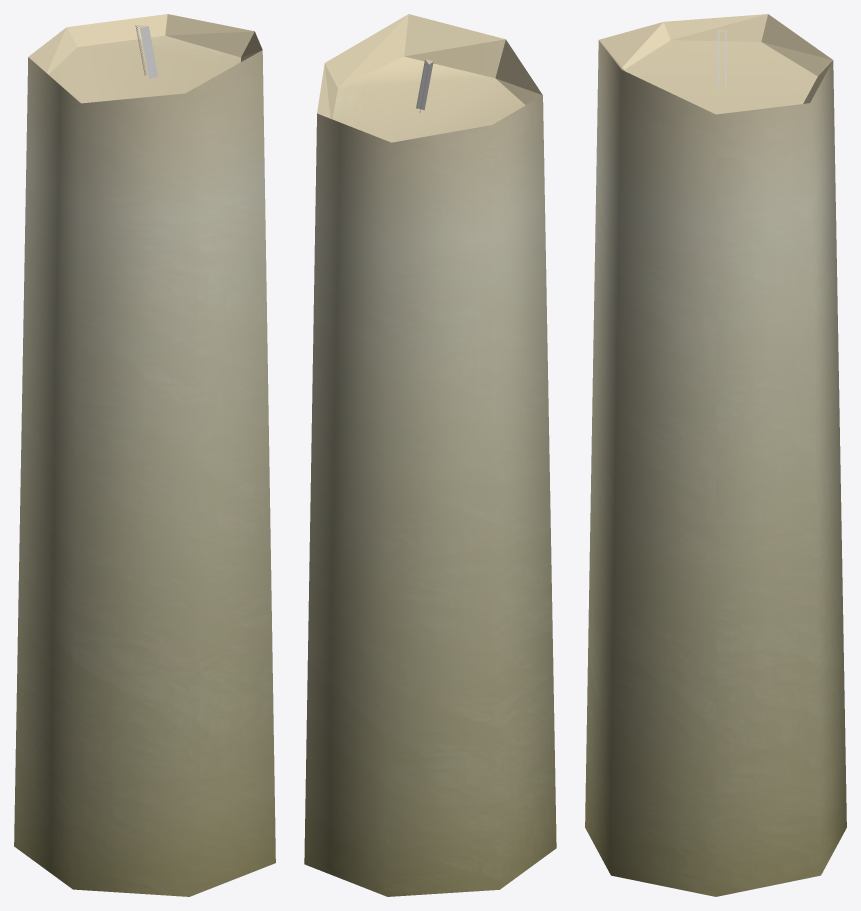
File: Candle.FBX
3 renders of one model, left to right at view 1: azimuth 30°, elevation 25°; view 2: azimuth 150°, elevation 25°; view 3: azimuth 270°, elevation 25°, orthographic. The views are drawn at different scales.
Visible parts, largest first — view 1: Plane001; view 2: Plane001; view 3: Plane001.
Part boxes in pixels (bbox=[...]): Plane001: bbox=[14, 14, 275, 896]; Plane001: bbox=[304, 14, 556, 896]; Plane001: bbox=[585, 14, 846, 896].
Size of the model in its own units: 10.71 by 37.32 by 10.98.
Materials: 1 (1 with a texture image).
